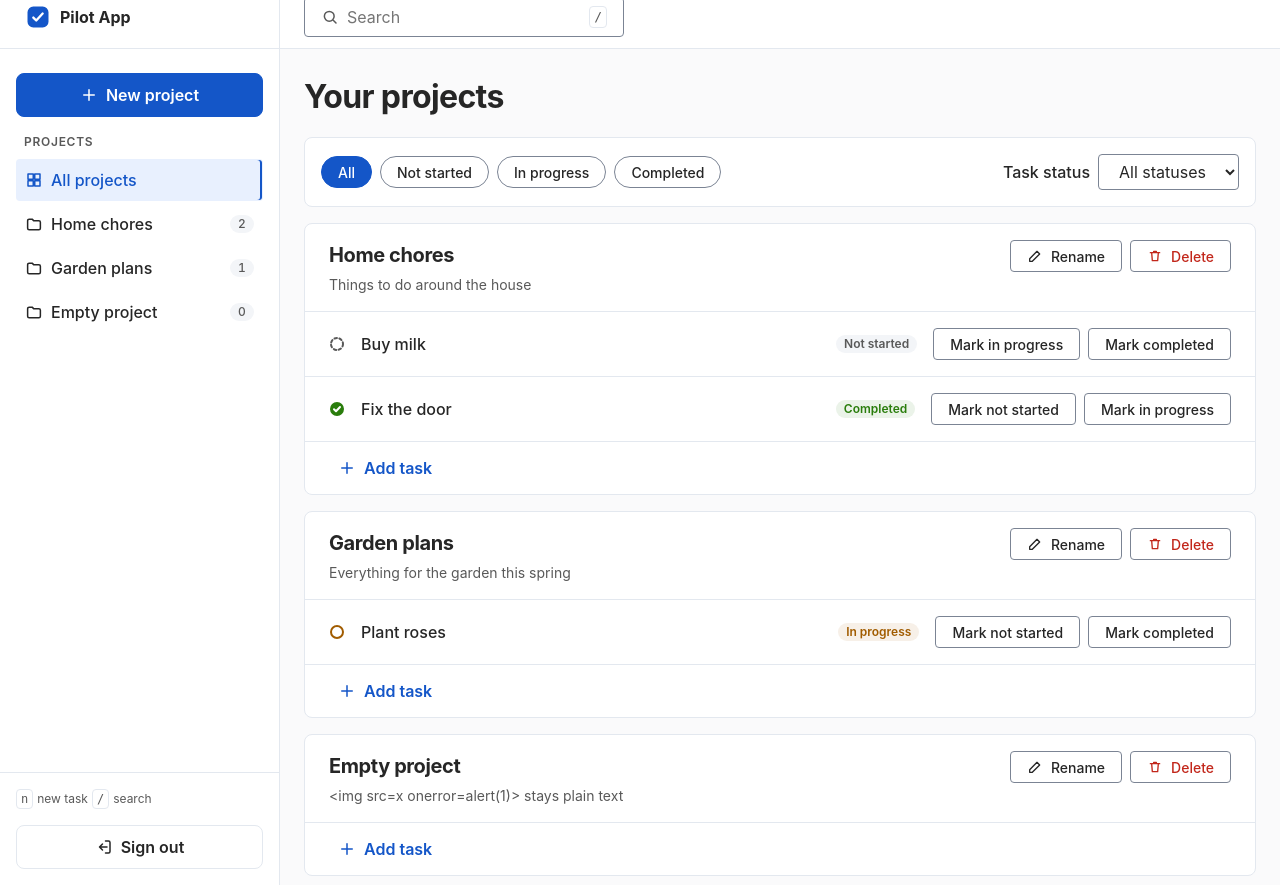
Test case: Dashboard › creating a project with a valid name and description shows it on the dashboard
Expected: the heading "Home chores" is shown, [329,243,454,267]
Click the button "New project" at (140, 95), box [16,73,263,117]
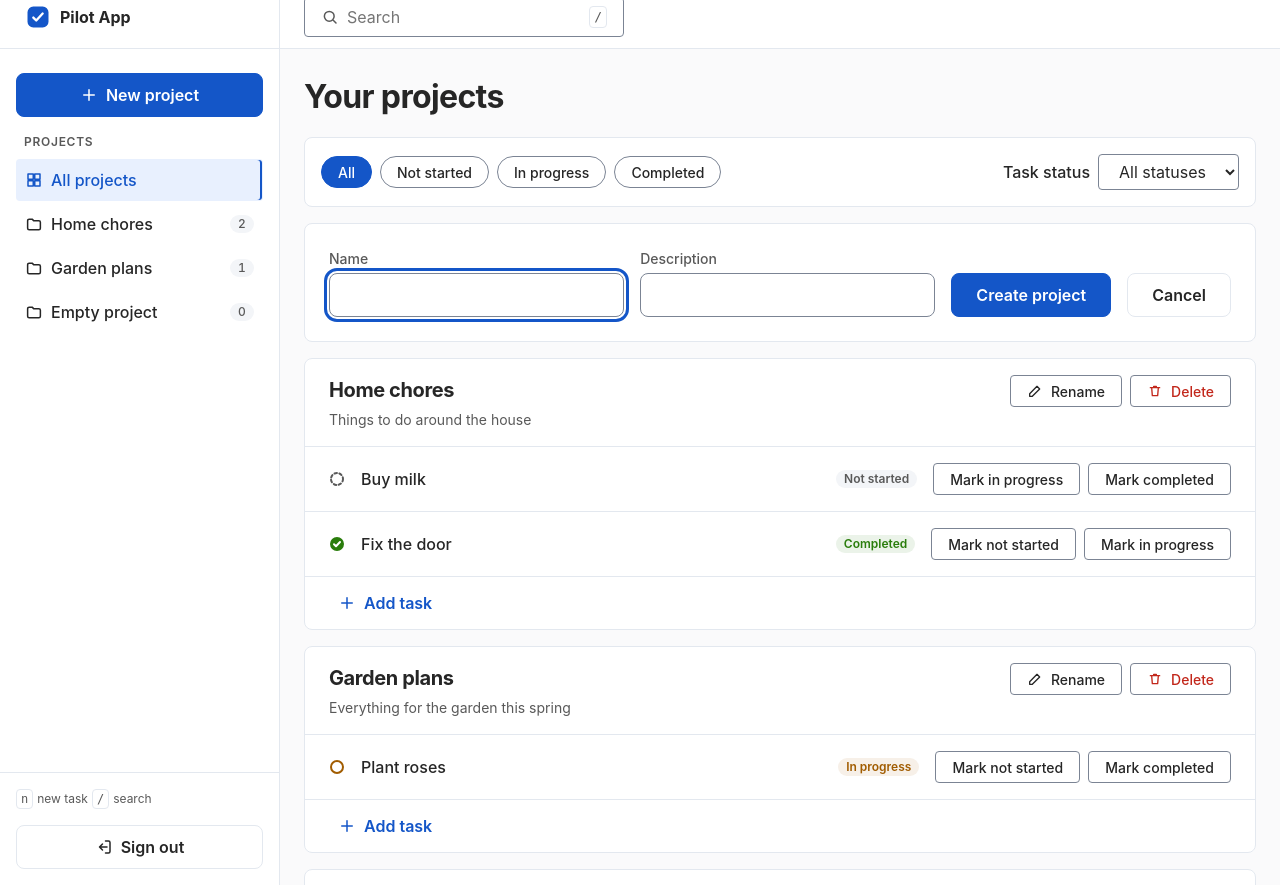
Type "Reading list" into the field labelled "Name" at (477, 295), box [329,273,624,317]
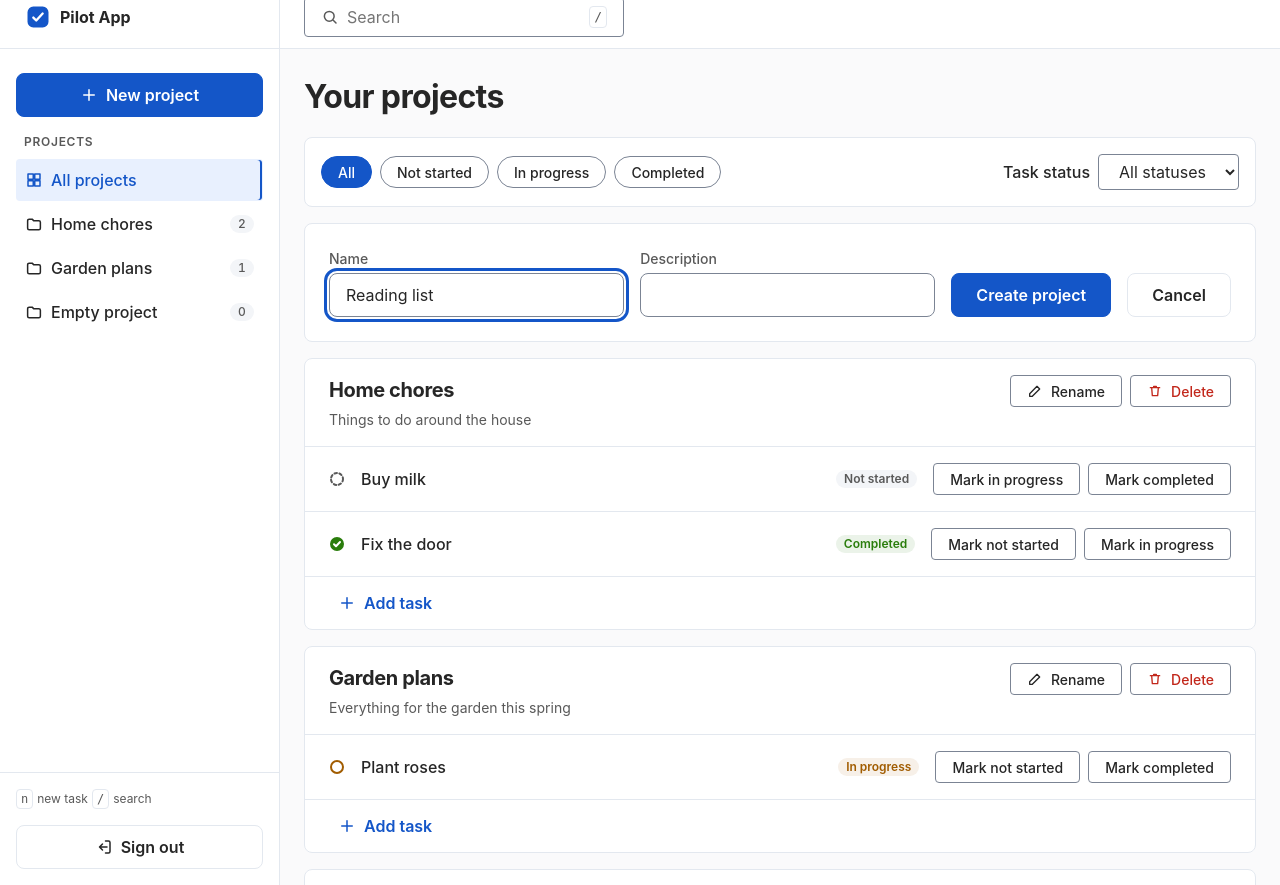
Type "Books to read this year and next" into the field labelled "Description" at (788, 295), box [640,273,935,317]
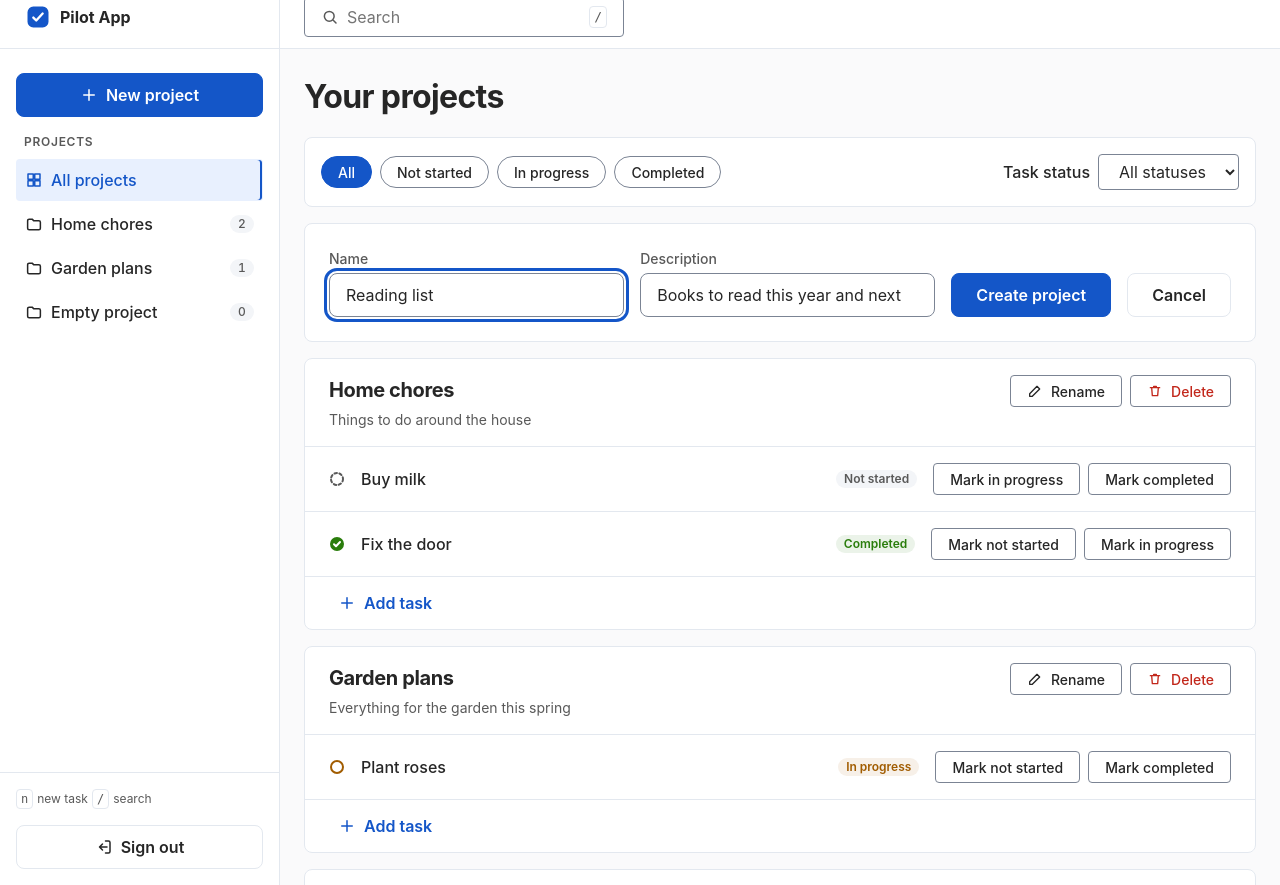
Click the button "Create project" at (1031, 295), box [951,273,1111,317]
(page scrolled)
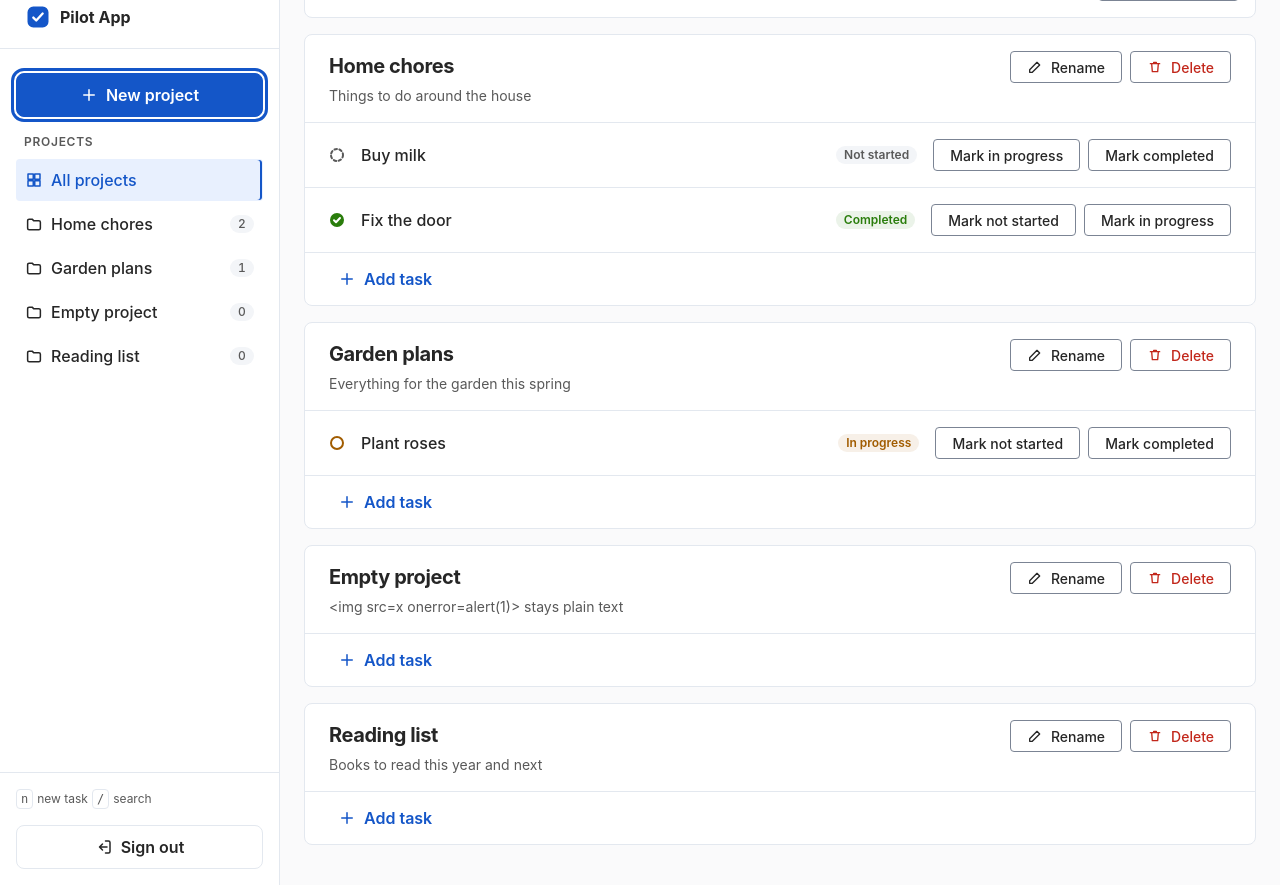
Result: the heading "Reading list" is shown at [329,723,438,747]
